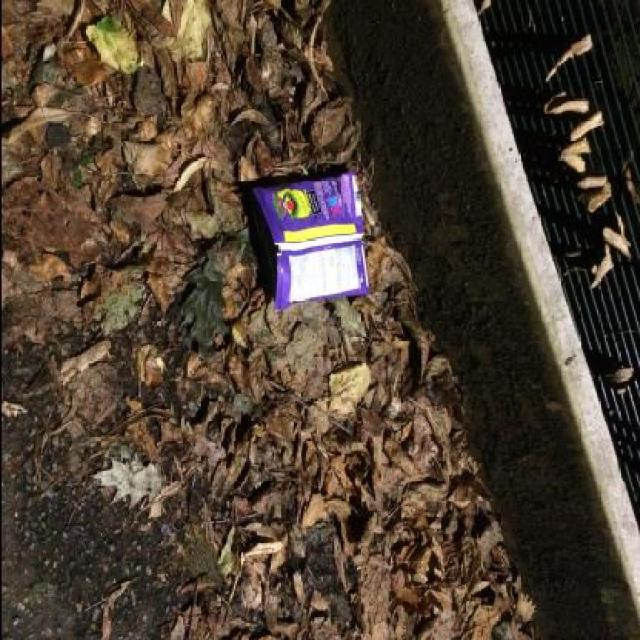plastic: (245, 171, 368, 312)
